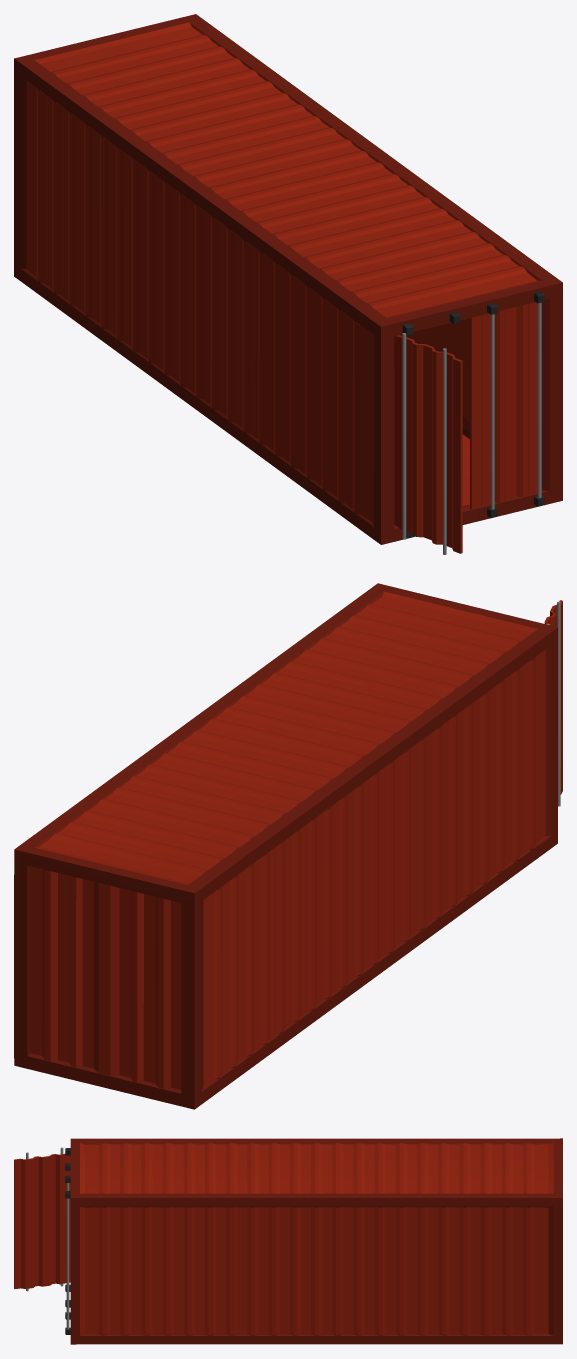
Rendered from Large Red Shipping Container Open.fbx.
3 renders of one model, top to bottom at view 1: azimuth 30°, elevation 25°; view 2: azimuth 150°, elevation 25°; view 3: azimuth 270°, elevation 25°, orthographic. The views are drawn at different scales.
Visible parts, largest first — view 1: Large Red Shipping Container Open; view 2: Large Red Shipping Container Open; view 3: Large Red Shipping Container Open.
Part boxes in pixels (left/top/right/bottom): Large Red Shipping Container Open: left=14, top=14, right=562, bottom=554; Large Red Shipping Container Open: left=14, top=583, right=562, bottom=1109; Large Red Shipping Container Open: left=14, top=1138, right=562, bottom=1344.
Size of the model in its own units: 1062 by 3609 by 928.
1 material, 1 textured.
